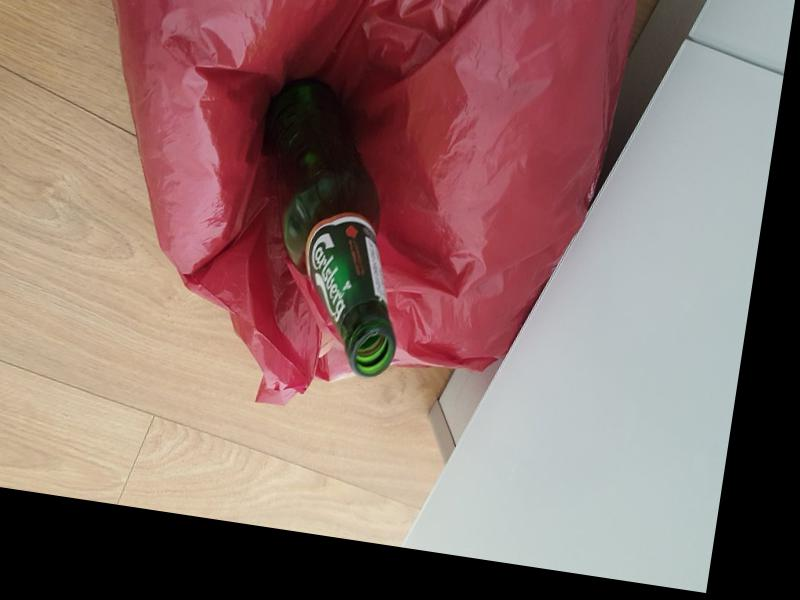Beer: (227, 76, 430, 382)
